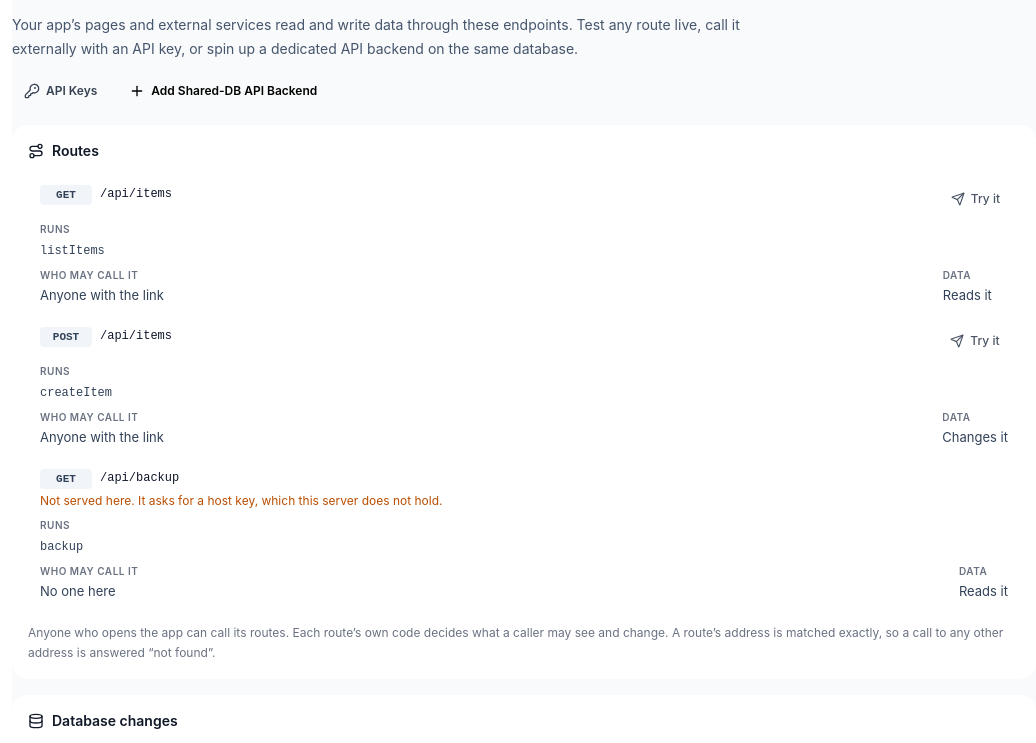
Test: the routes › lead to Try it, with the route chosen and the keyboard there
What coordinates should you click on to do the following:
click the 2nd button "Try it"
I would click on:
 (975, 341)
Its box is [942,325,1008,357].
Wait 50 ms
(page scrolled)
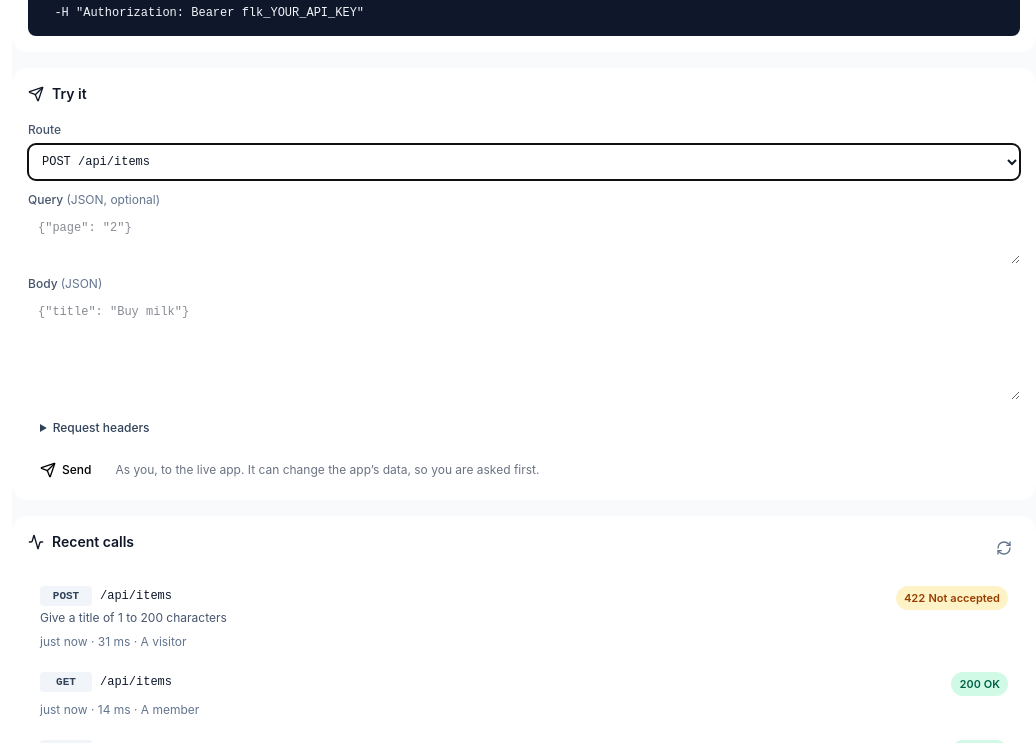
Expected: the dropdown with id "api-try-route" shows "POST /api/items", [28,144,1020,180]
Expected: the text box with id "api-try-body" is shown, [28,296,1020,400]
